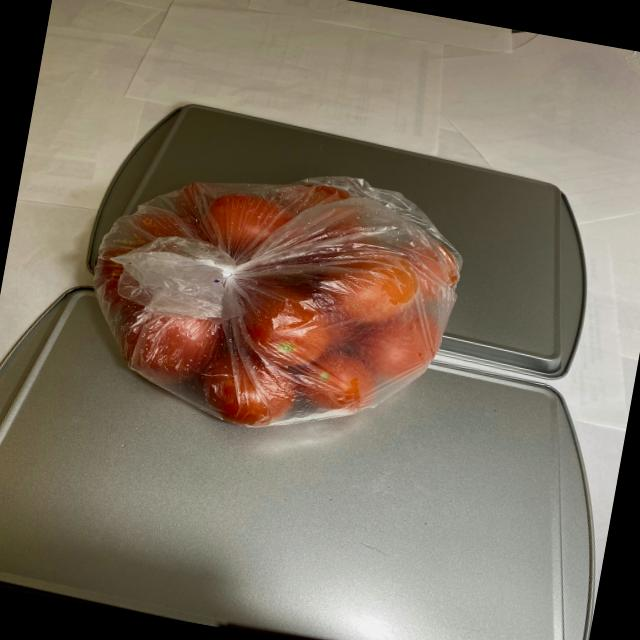tomato: (72, 148, 480, 459)
